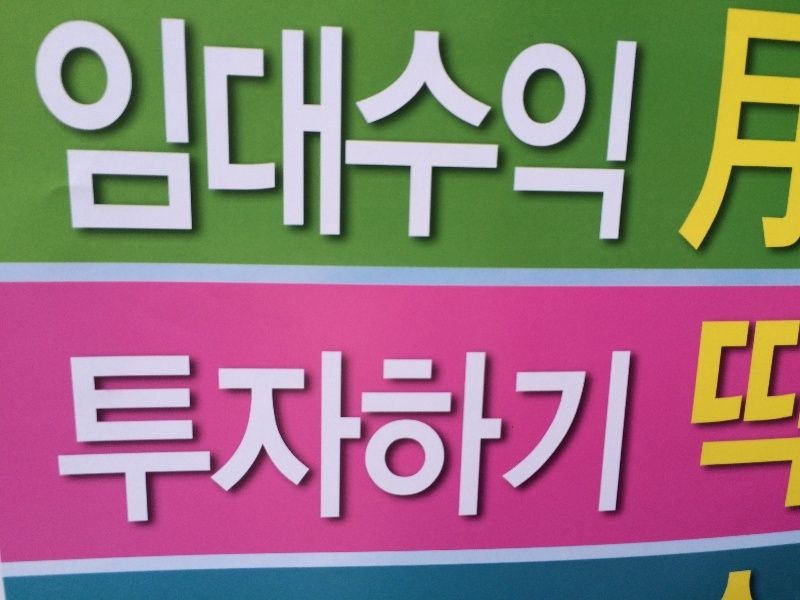text: (737, 7, 752, 252), (753, 7, 768, 252), (769, 7, 784, 252), (785, 7, 800, 252), (33, 13, 48, 243), (49, 13, 64, 243), (65, 13, 80, 243), (81, 13, 96, 243), (97, 13, 112, 243), (113, 13, 128, 243), (129, 13, 144, 243), (145, 13, 160, 243), (161, 13, 176, 243), (177, 13, 192, 243), (193, 13, 208, 243), (209, 13, 224, 243), (225, 13, 240, 243), (241, 13, 256, 243), (257, 13, 272, 243), (273, 13, 288, 243), (289, 13, 304, 243), (305, 13, 320, 243), (321, 13, 336, 243), (337, 13, 352, 243), (353, 13, 368, 243), (369, 13, 384, 243), (385, 13, 400, 243), (401, 13, 416, 243), (417, 13, 432, 243), (433, 13, 448, 243), (449, 13, 464, 243), (465, 13, 480, 243), (481, 13, 496, 243), (497, 13, 512, 243), (513, 13, 528, 243), (529, 13, 544, 243), (545, 13, 560, 243), (561, 13, 576, 243), (577, 13, 592, 243), (593, 13, 608, 243), (609, 13, 624, 243), (625, 13, 638, 243), (705, 321, 720, 510), (721, 321, 736, 510), (737, 321, 752, 510), (753, 321, 768, 510), (769, 321, 784, 510), (785, 321, 800, 510), (65, 353, 80, 525), (81, 353, 96, 525), (97, 353, 112, 525), (113, 353, 128, 525), (129, 353, 144, 525), (145, 353, 160, 525), (161, 353, 176, 525), (177, 353, 192, 525), (193, 353, 208, 525), (209, 353, 224, 525), (225, 353, 240, 525), (241, 353, 256, 525), (257, 353, 272, 525), (273, 353, 288, 525), (289, 353, 304, 525), (305, 353, 320, 525), (321, 353, 336, 525), (337, 353, 352, 525), (353, 353, 368, 525), (369, 353, 384, 525), (385, 353, 400, 525), (401, 353, 416, 525), (417, 353, 432, 525), (433, 353, 448, 525), (449, 353, 464, 525), (465, 353, 480, 525), (481, 353, 496, 525), (497, 353, 512, 525), (513, 353, 528, 525), (529, 353, 544, 525), (545, 353, 560, 525), (561, 353, 576, 525), (577, 353, 592, 525), (593, 353, 608, 525), (609, 353, 624, 525), (726, 7, 736, 252), (50, 353, 64, 525), (695, 321, 704, 510), (625, 353, 632, 525), (30, 13, 32, 243)
